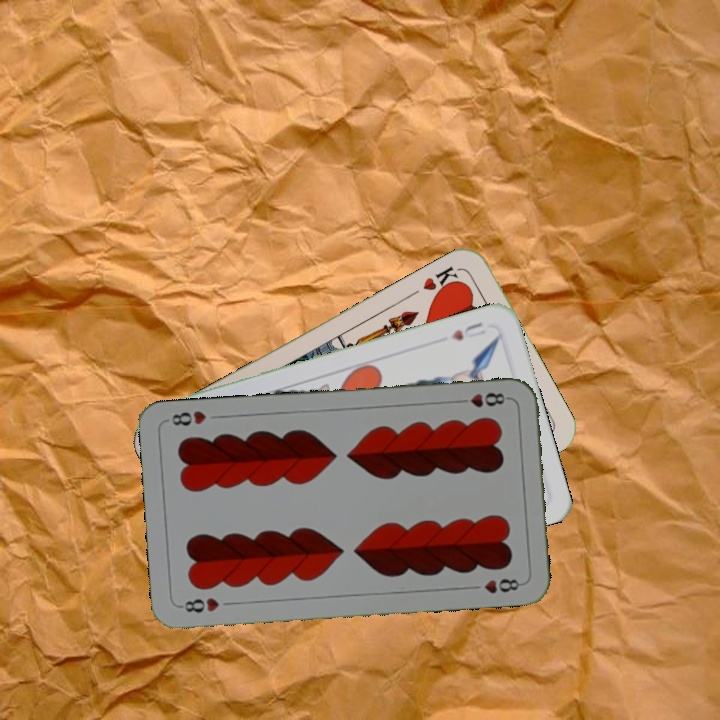H8: (453, 389, 512, 410), (176, 593, 222, 615)
HK: (418, 262, 464, 299)
HU: (446, 318, 488, 343)
